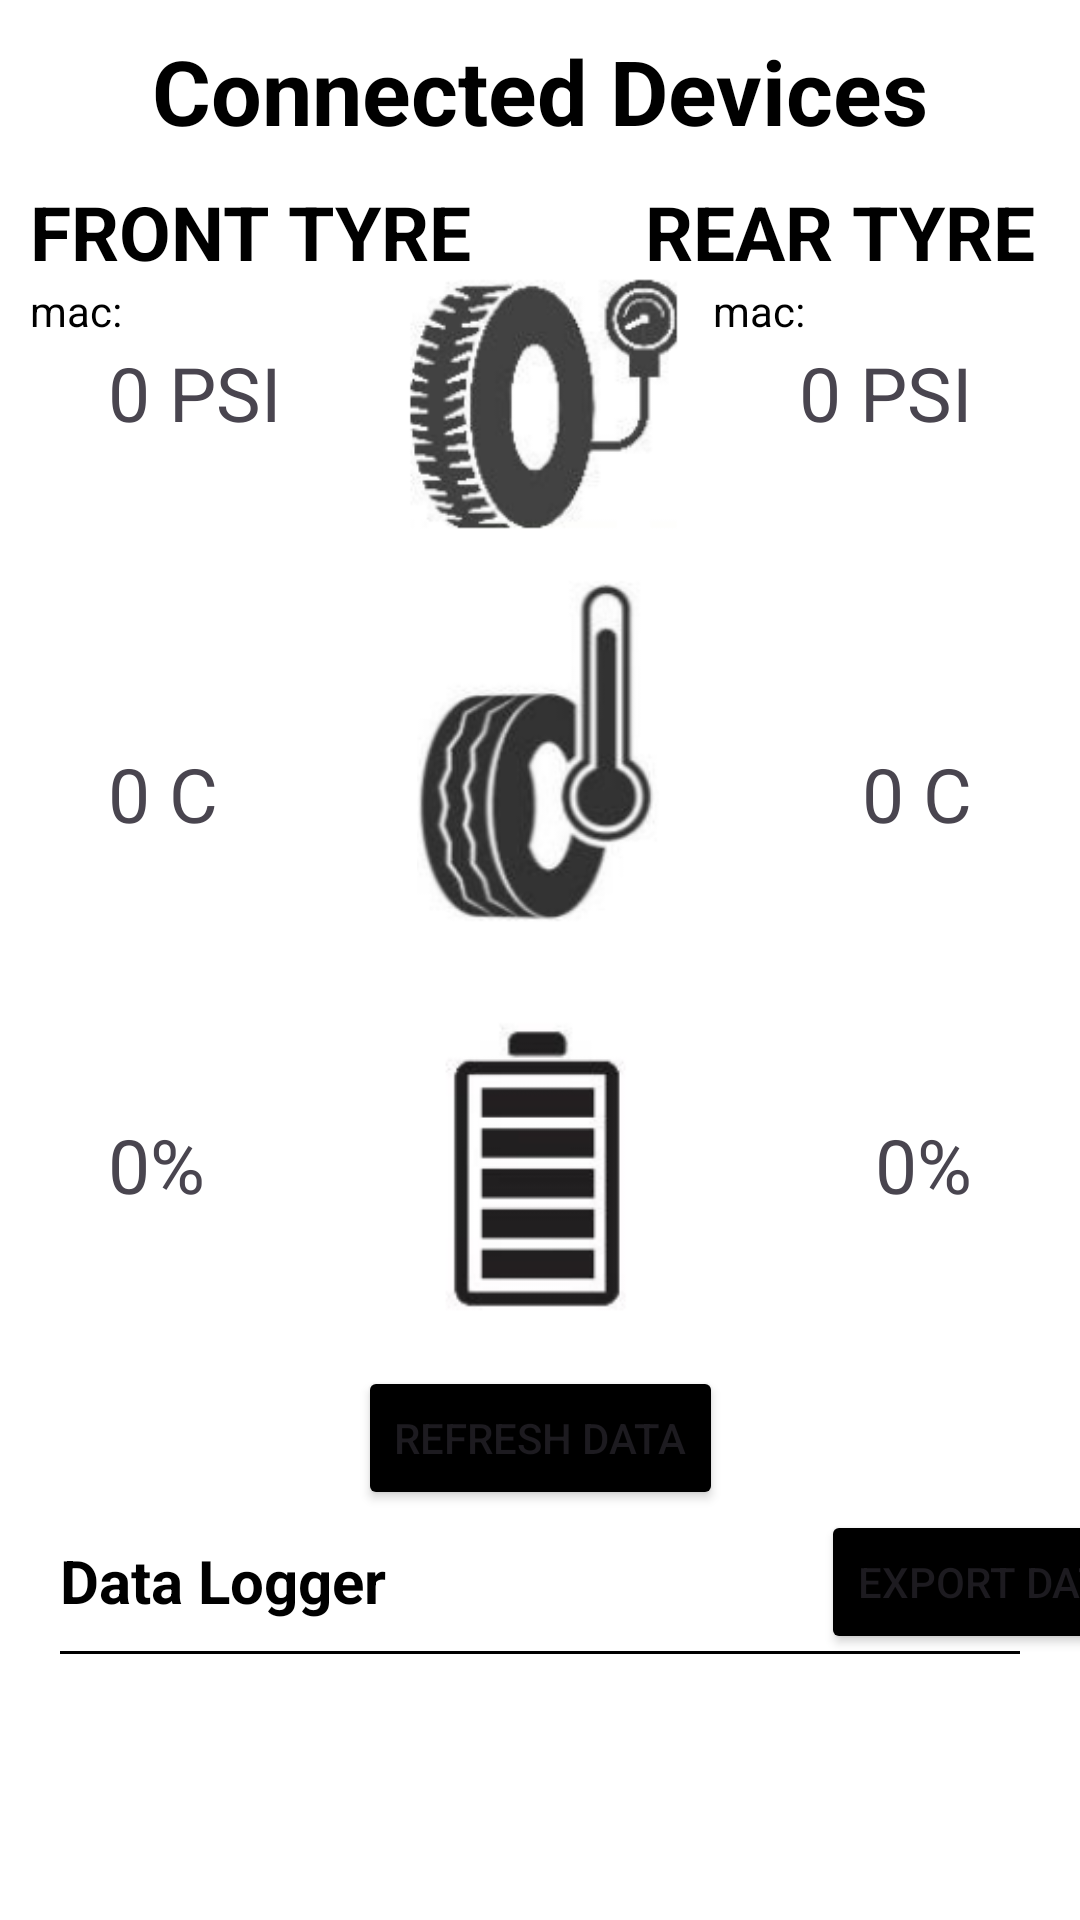

Icons on this 1080×1920 Android screen, each with its box as BBox(x1, y1, x2, y2):
battery: BBox(453, 1031, 620, 1307)
temperature: BBox(419, 584, 652, 920)
tyre pressure: BBox(410, 279, 678, 529)
